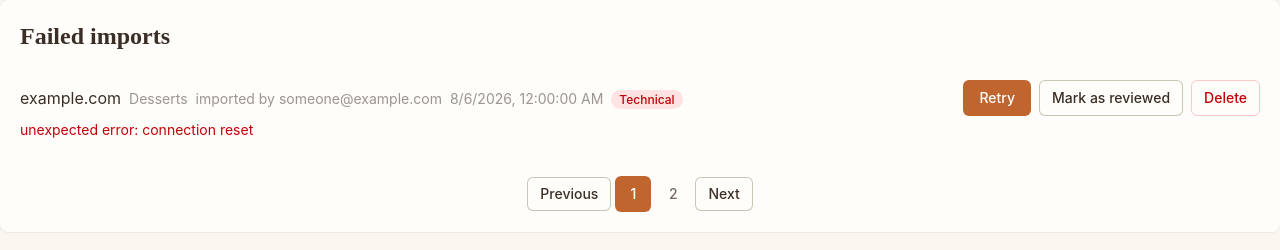
Scenario: FailedImportsManager › paginates via the shared Pagination component
The image size is (1280, 250).
Check: the link "example.com" is shown, box [20,88,121,108]
Click the button "2": [673, 194] box [655,176,691,212]
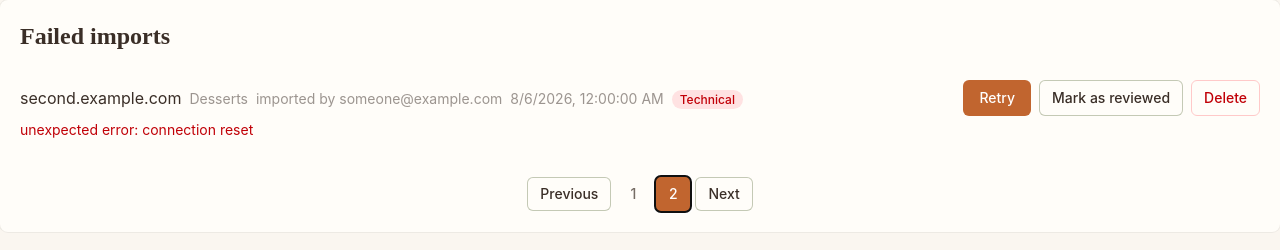
Check: the link "second.example.com" is shown, box [20,88,181,108]
